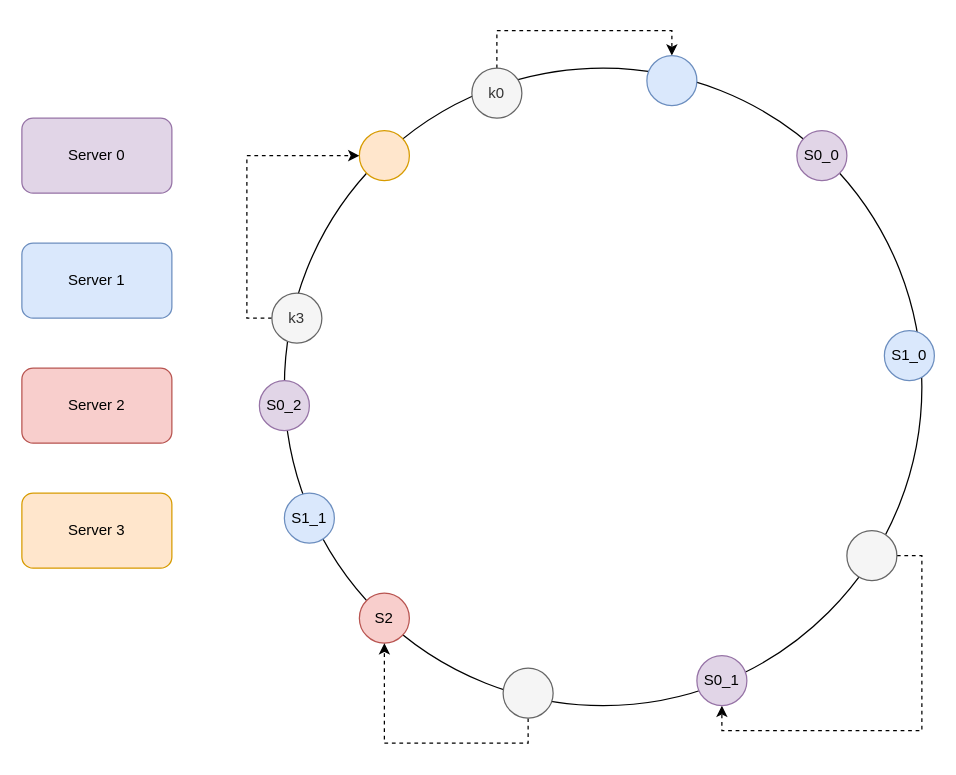
Image size: 956x775. Some labels were removed from this diagram. The box of each missing label's shape, as (x1, y1, x2, y2) in pixels:
k1: (846, 529, 897, 581)
k2: (502, 667, 553, 718)
S1_2: (646, 54, 697, 106)
S3: (358, 129, 409, 181)
